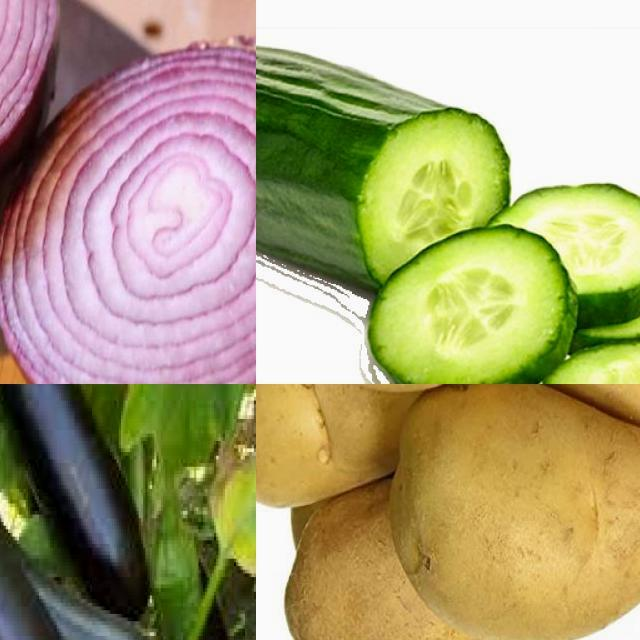cucumber: (257, 47, 513, 292)
eggplant: (1, 385, 130, 640)
onion: (1, 37, 257, 385)
potato: (394, 385, 640, 640), (284, 494, 553, 640), (257, 385, 406, 512)
